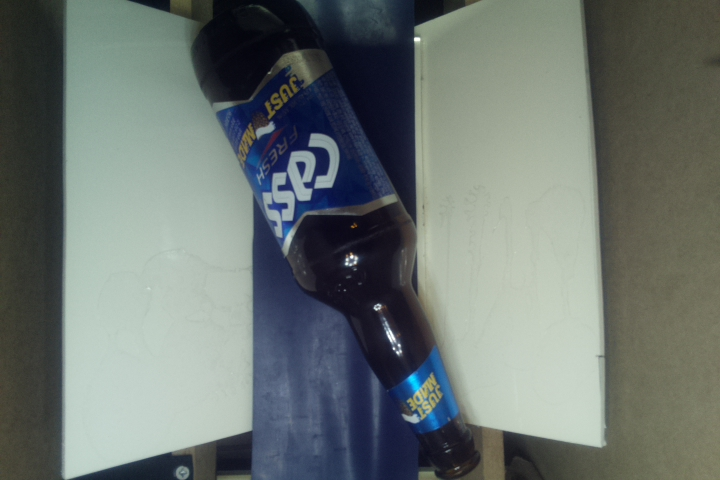makju: (190, 1, 481, 480)
